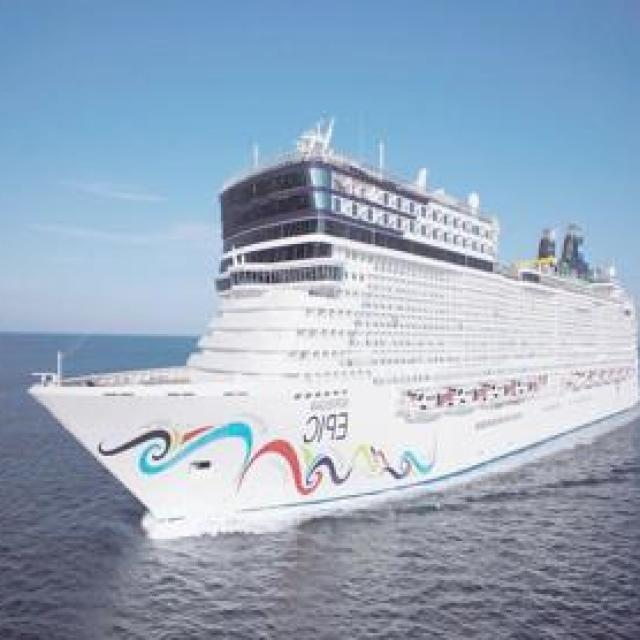passenger ship: (14, 117, 640, 555)
